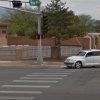Crosswalk: (14, 53, 55, 100)
